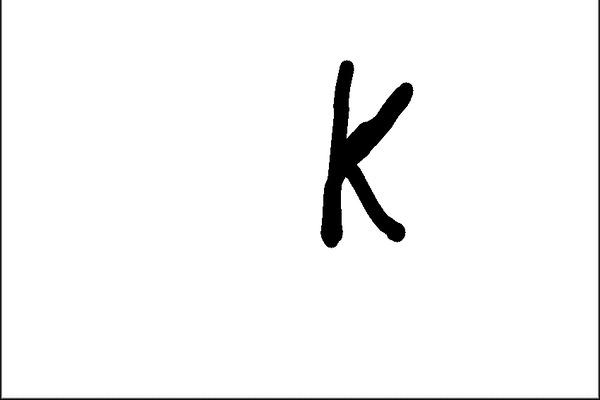K: (310, 53, 419, 254)
